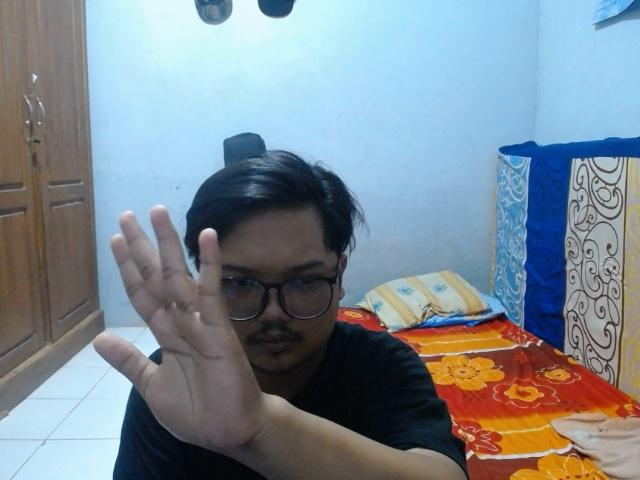Release: (88, 201, 269, 453)
